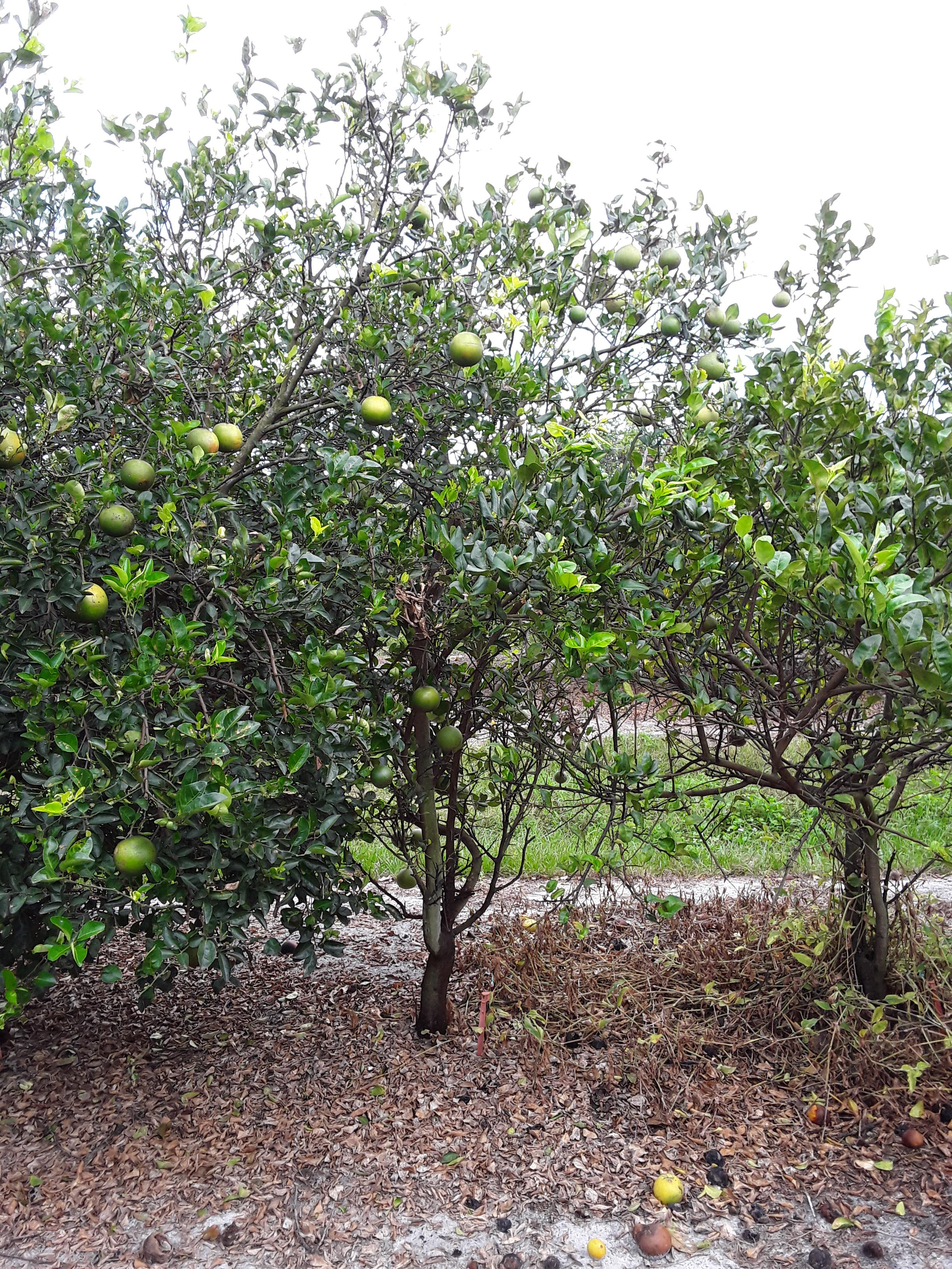fruit_on_ground: (112, 834, 158, 878), (95, 501, 143, 542), (71, 579, 110, 625), (356, 390, 397, 431), (447, 329, 485, 371), (119, 456, 158, 495), (186, 423, 224, 461), (410, 682, 446, 717), (397, 201, 437, 229), (433, 723, 465, 757), (696, 349, 728, 382), (1, 429, 29, 466), (612, 238, 641, 273), (219, 420, 245, 454), (405, 825, 434, 855), (119, 728, 148, 757), (525, 178, 550, 210), (659, 309, 684, 341), (705, 299, 729, 332), (369, 759, 394, 790), (630, 401, 657, 429), (394, 863, 420, 892), (693, 404, 721, 430), (657, 243, 681, 273), (719, 312, 743, 341), (695, 612, 724, 635), (560, 734, 590, 756), (605, 290, 633, 313), (387, 825, 410, 847), (568, 300, 587, 326), (772, 287, 793, 309), (729, 727, 749, 750), (552, 768, 568, 788)
fruit_on_tree: (138, 1229, 183, 1266), (653, 1171, 688, 1210), (642, 1224, 674, 1262), (807, 1243, 836, 1269), (900, 1126, 926, 1151), (586, 1233, 609, 1261), (705, 1164, 729, 1190), (519, 910, 540, 935), (278, 937, 302, 958), (816, 1202, 837, 1226), (864, 1237, 885, 1261), (462, 1192, 482, 1217), (494, 1215, 517, 1236), (809, 1105, 829, 1129), (702, 1145, 726, 1165), (500, 1249, 524, 1269), (821, 1197, 840, 1222), (539, 1252, 566, 1269), (702, 1044, 721, 1066), (564, 1029, 582, 1051), (590, 1033, 609, 1051)
